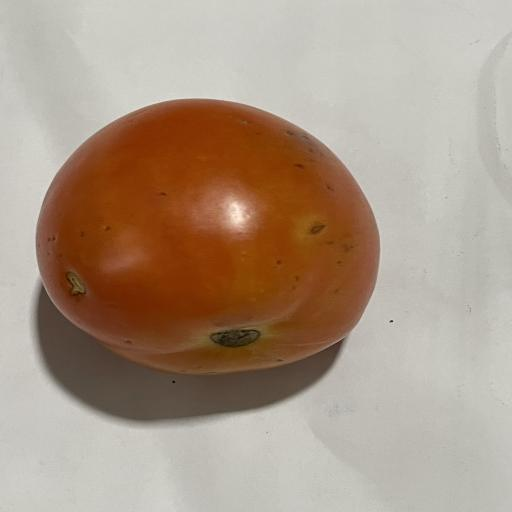ripe: (37, 99, 379, 374)
